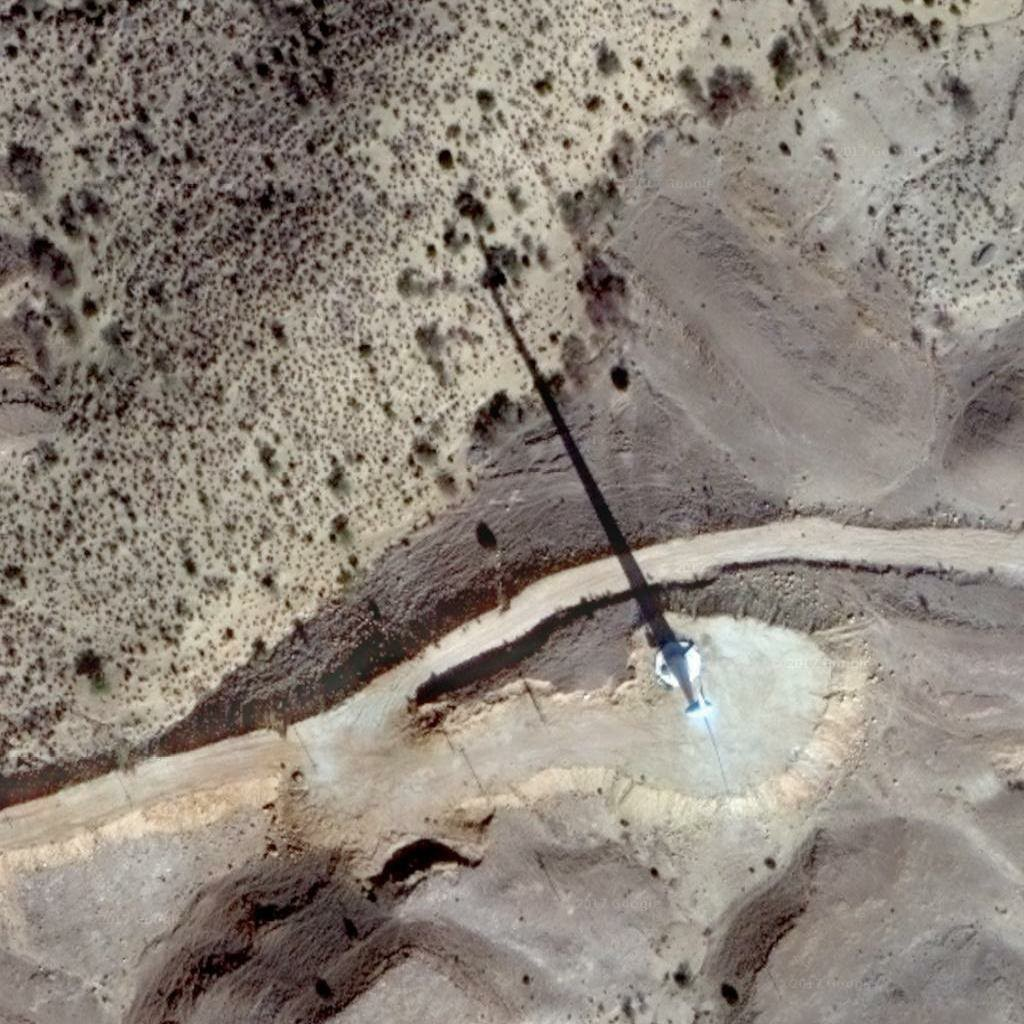Windmill: (463, 219, 682, 645)
